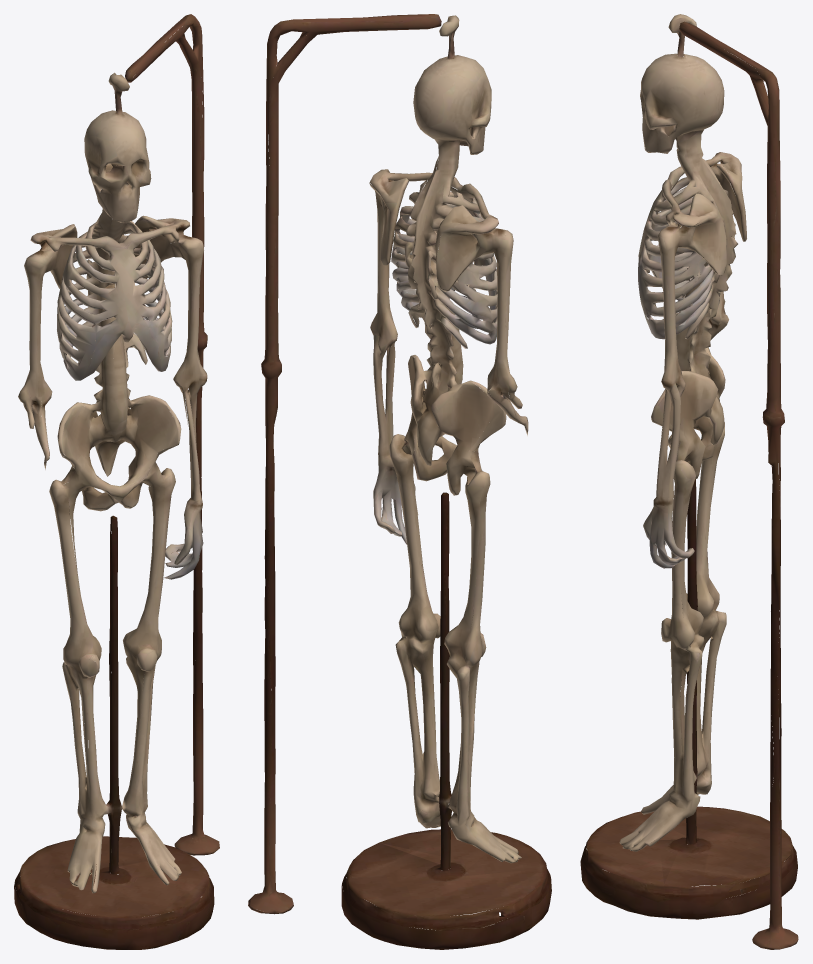
File: esqueleto.glb
The picture shows the model from 3 angles, left to right: view 1: azimuth 30°, elevation 25°; view 2: azimuth 150°, elevation 25°; view 3: azimuth 270°, elevation 25°; orthographic projection. The views are drawn at different scales.
Visible parts, largest first — view 1: geometry_0; view 2: geometry_0; view 3: geometry_0.
Part boxes in pixels (<box>): geometry_0: <box>14,14,219,949</box>; geometry_0: <box>248,14,551,949</box>; geometry_0: <box>580,14,798,949</box>.
Size of the model in its own units: 0.4998 by 1.75 by 0.4006.
Materials: 1 (1 with a texture image).
